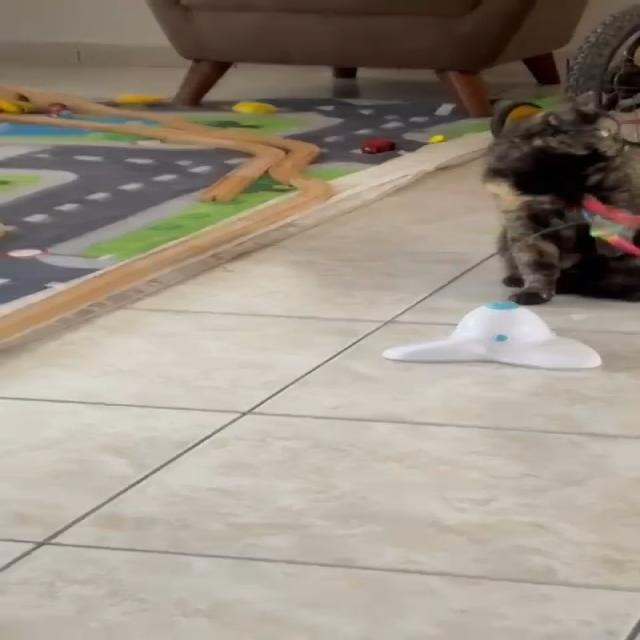authorized: (480, 90, 639, 305)
